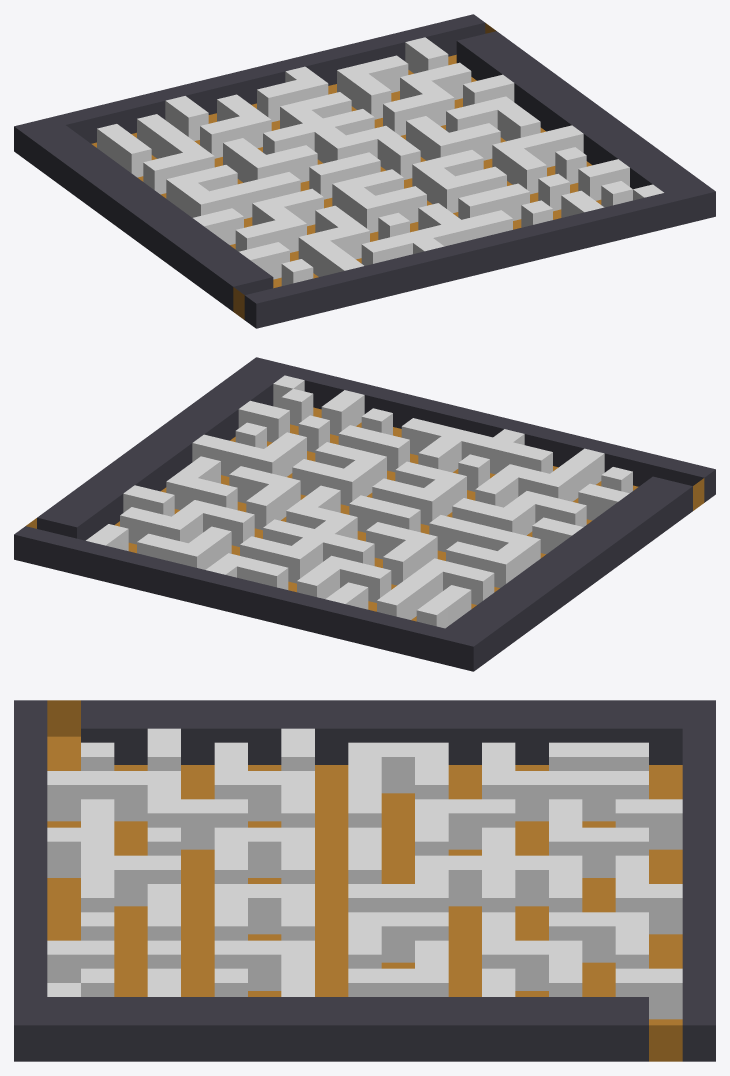
File: mazev6.dae
The picture shows the model from 3 angles, top to bottom: view 1: azimuth 30°, elevation 25°; view 2: azimuth 150°, elevation 25°; view 3: azimuth 270°, elevation 25°; orthographic projection. The views are drawn at different scales.
Parts seen in each view (by area): view 1: 平面; view 2: 平面; view 3: 平面.
Boxes of the visible parts, left/top/right/bottom form: 平面: left=14, top=14, right=715, bottom=328; 平面: left=14, top=357, right=715, bottom=671; 平面: left=14, top=700, right=715, bottom=1061.
Bounding box in the file's own units: 28.75 × 26.25 × 1.5.
